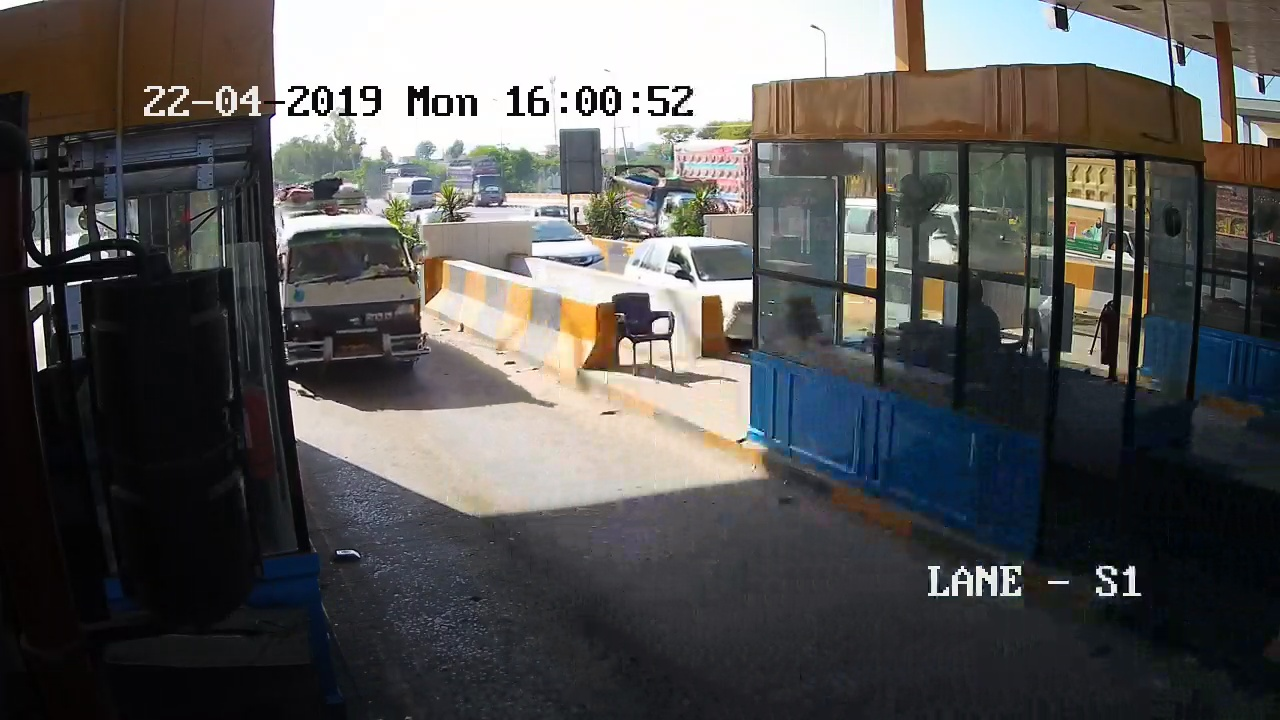car: (271, 194, 456, 411)
